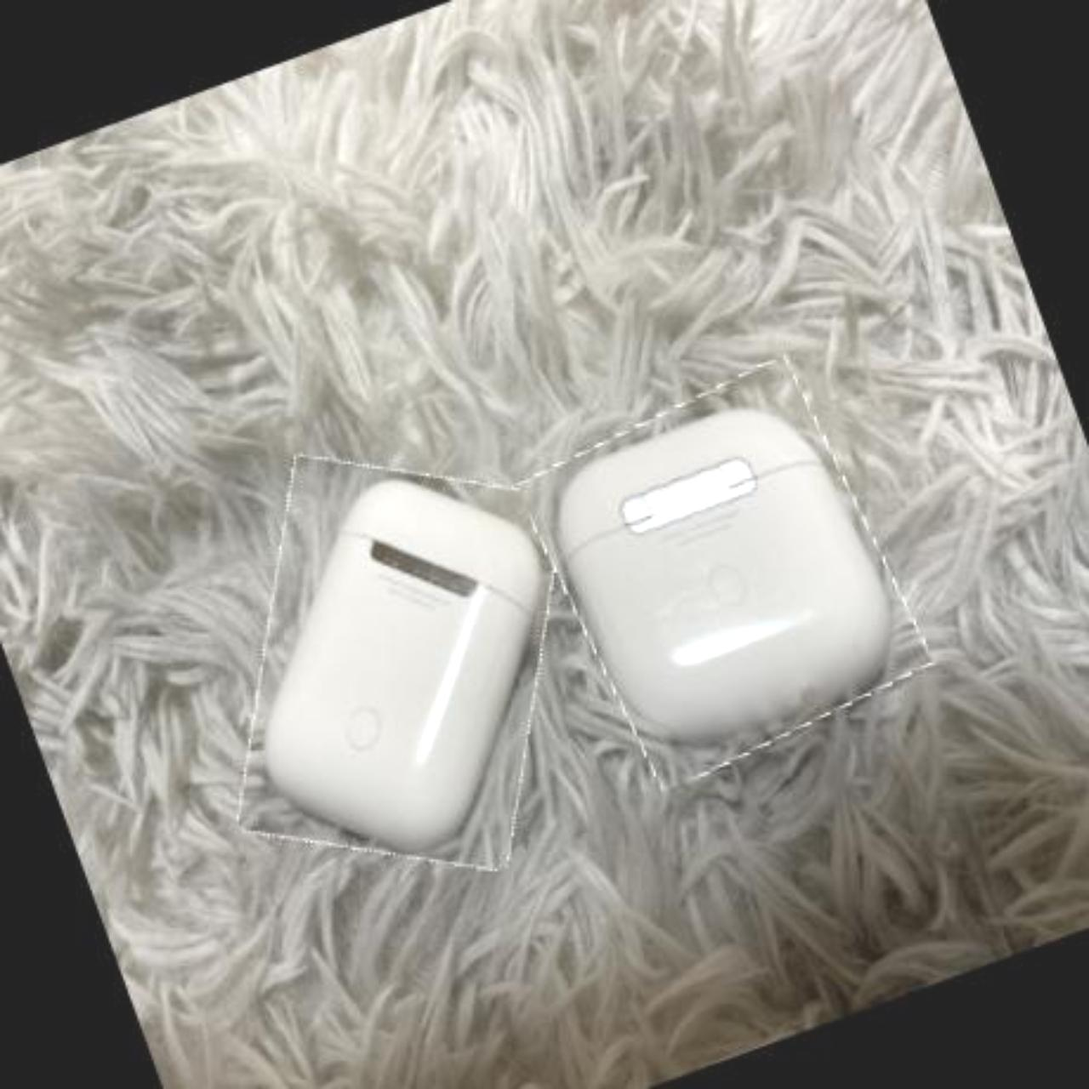AirPods: (166, 406, 634, 919), (515, 354, 931, 794)
